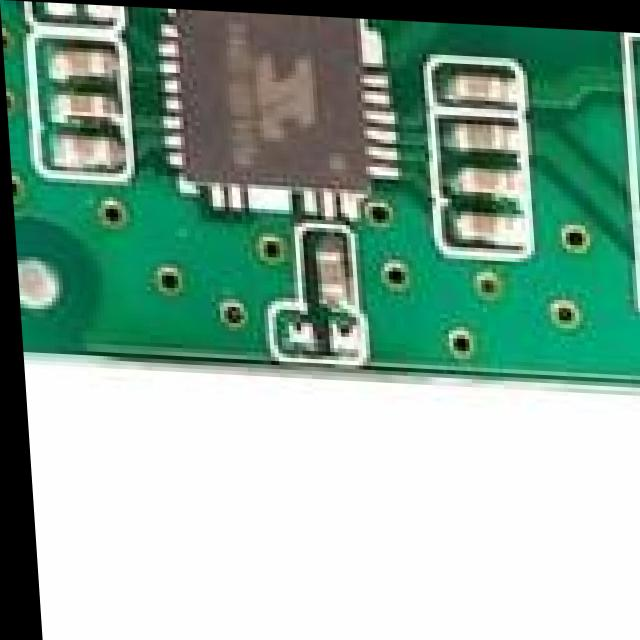IC: (156, 6, 402, 216)
capacitor: (442, 62, 524, 101), (55, 132, 117, 172), (457, 114, 519, 153), (455, 158, 515, 197), (458, 208, 528, 241), (312, 246, 347, 306), (54, 46, 108, 84), (53, 94, 122, 121)
